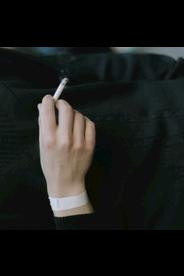Cigarette: (50, 77, 68, 102)
